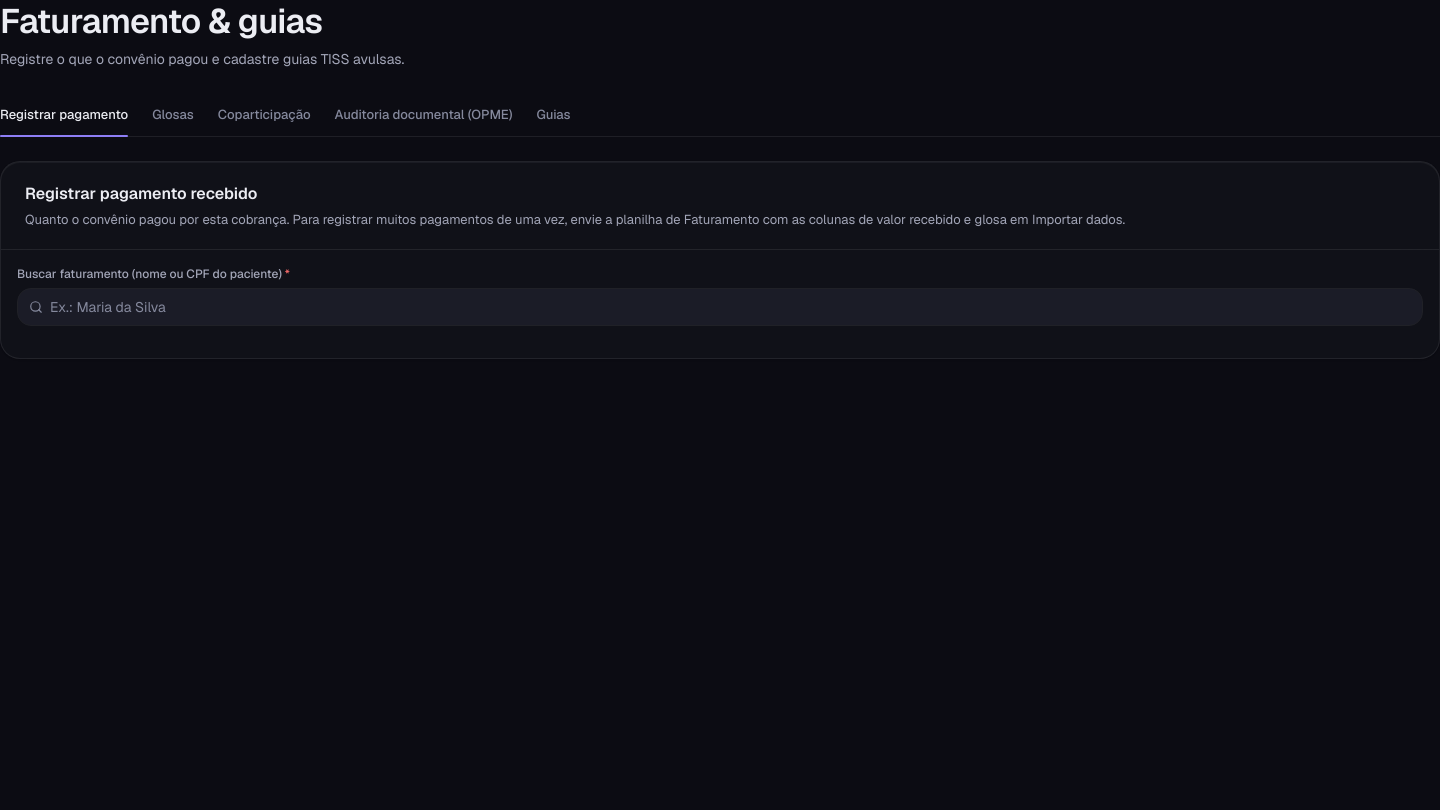
Test: BillingOperationsPage — aba Registrar pagamento › cancelar o ConfirmDialog não registra nada
Type "Maria da Silva" into the field labelled "Buscar faturamento (nome ou CPF do paciente) *" at (720, 307), box [17, 288, 1423, 326]
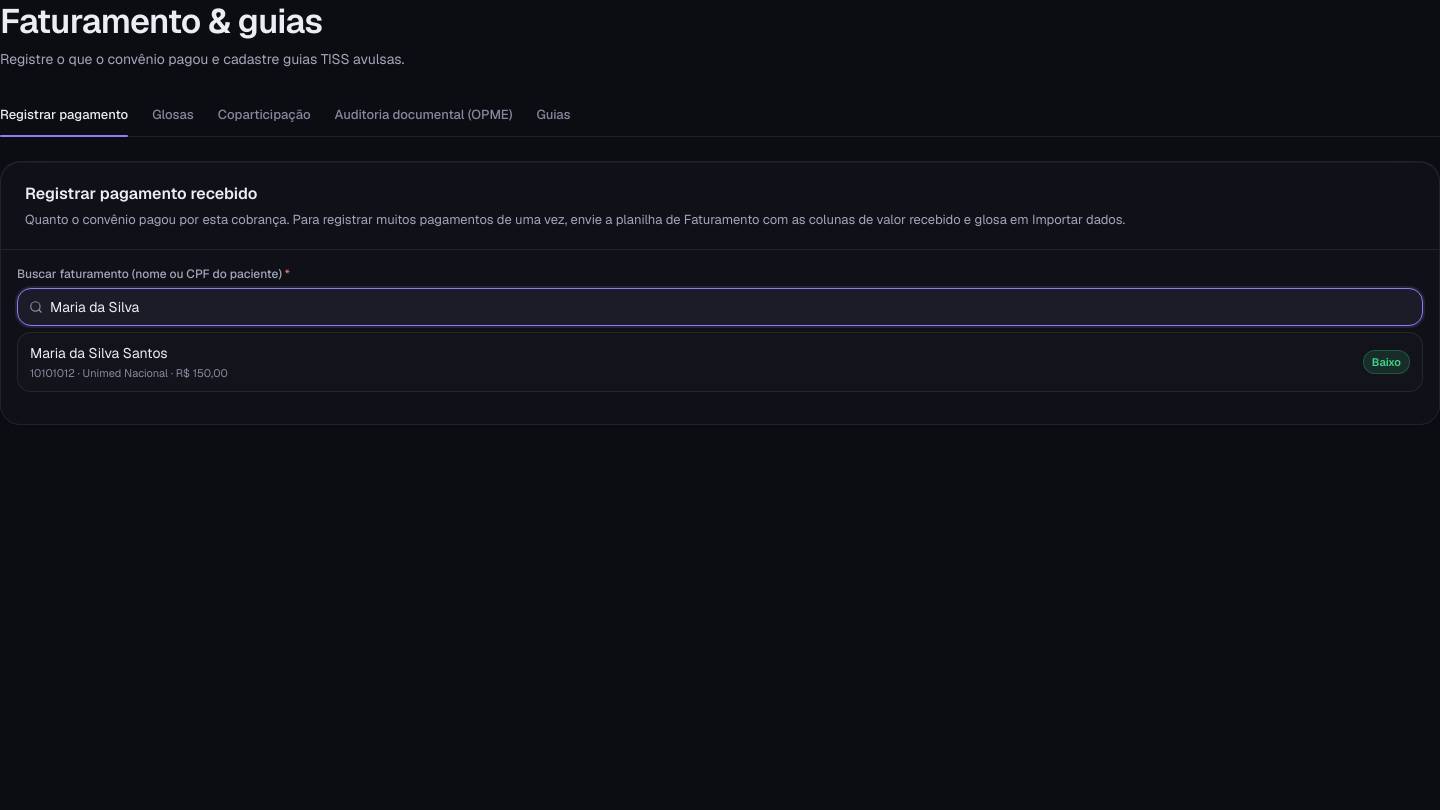
Check: the text "Maria da Silva Santos" is shown
Click the text "Maria da Silva Santos" at (99, 353), box [30, 344, 168, 362]
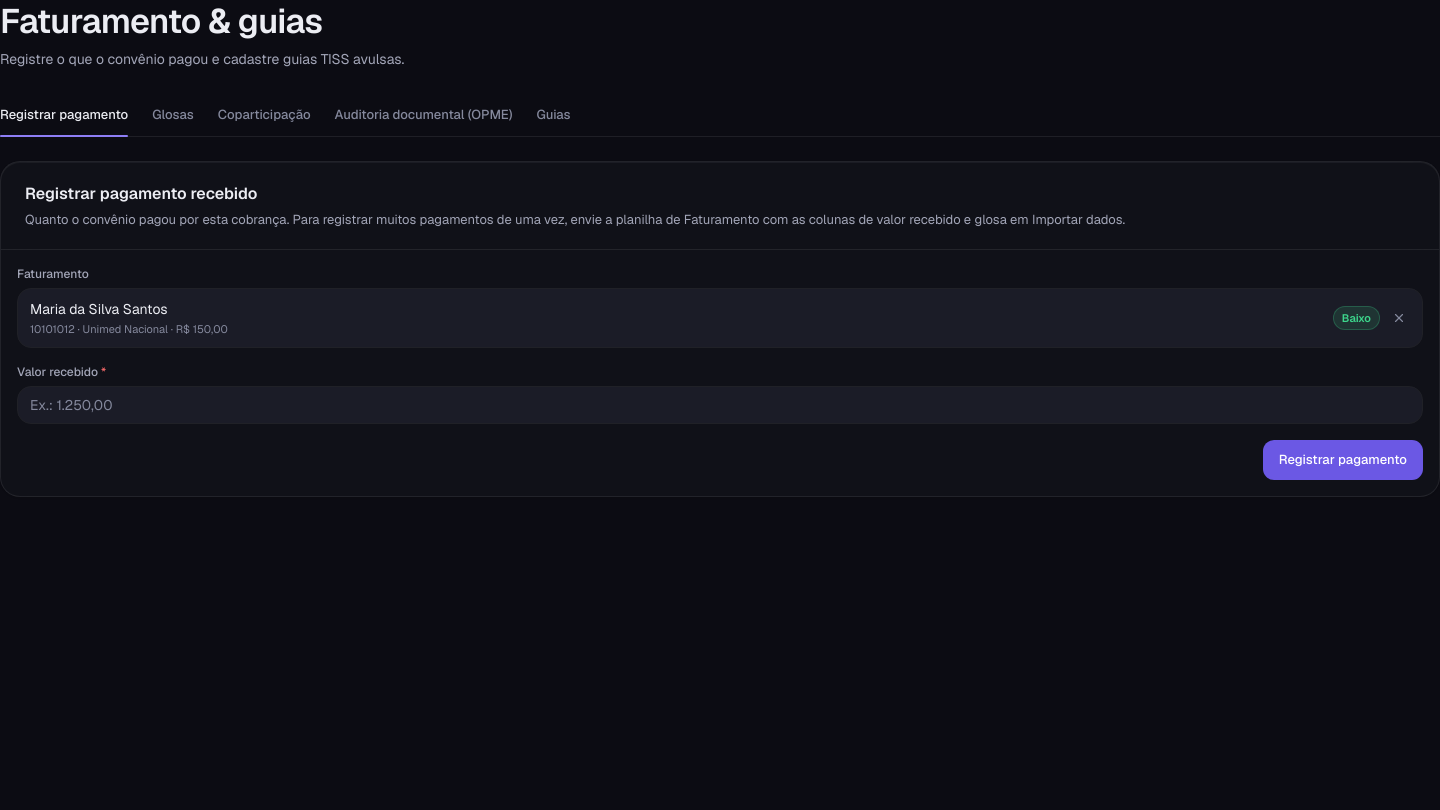
Type "150" into the field labelled "Valor recebido *" at (720, 405), box [17, 386, 1423, 424]
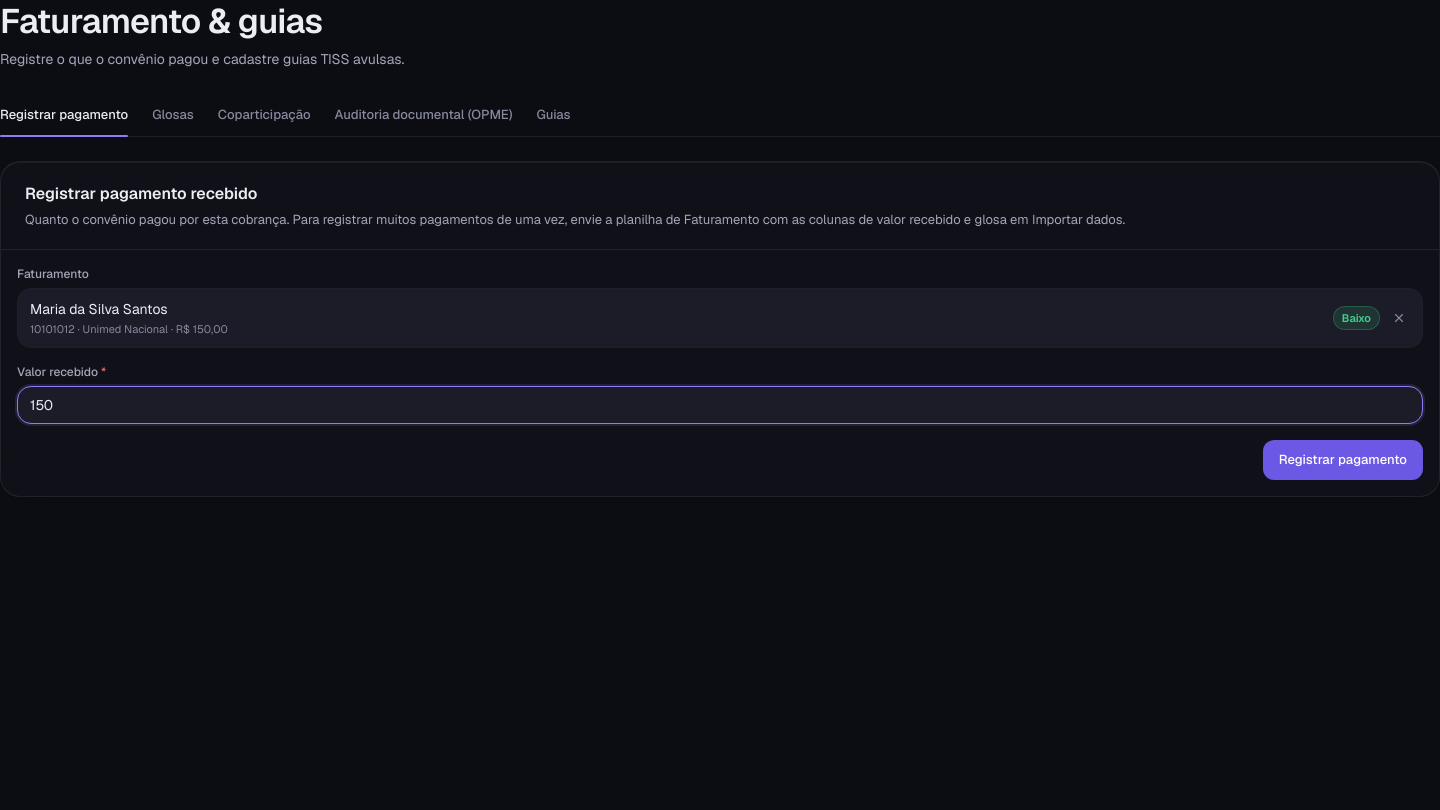
Click the button "Registrar pagamento" at (1343, 460), box [1263, 440, 1423, 480]
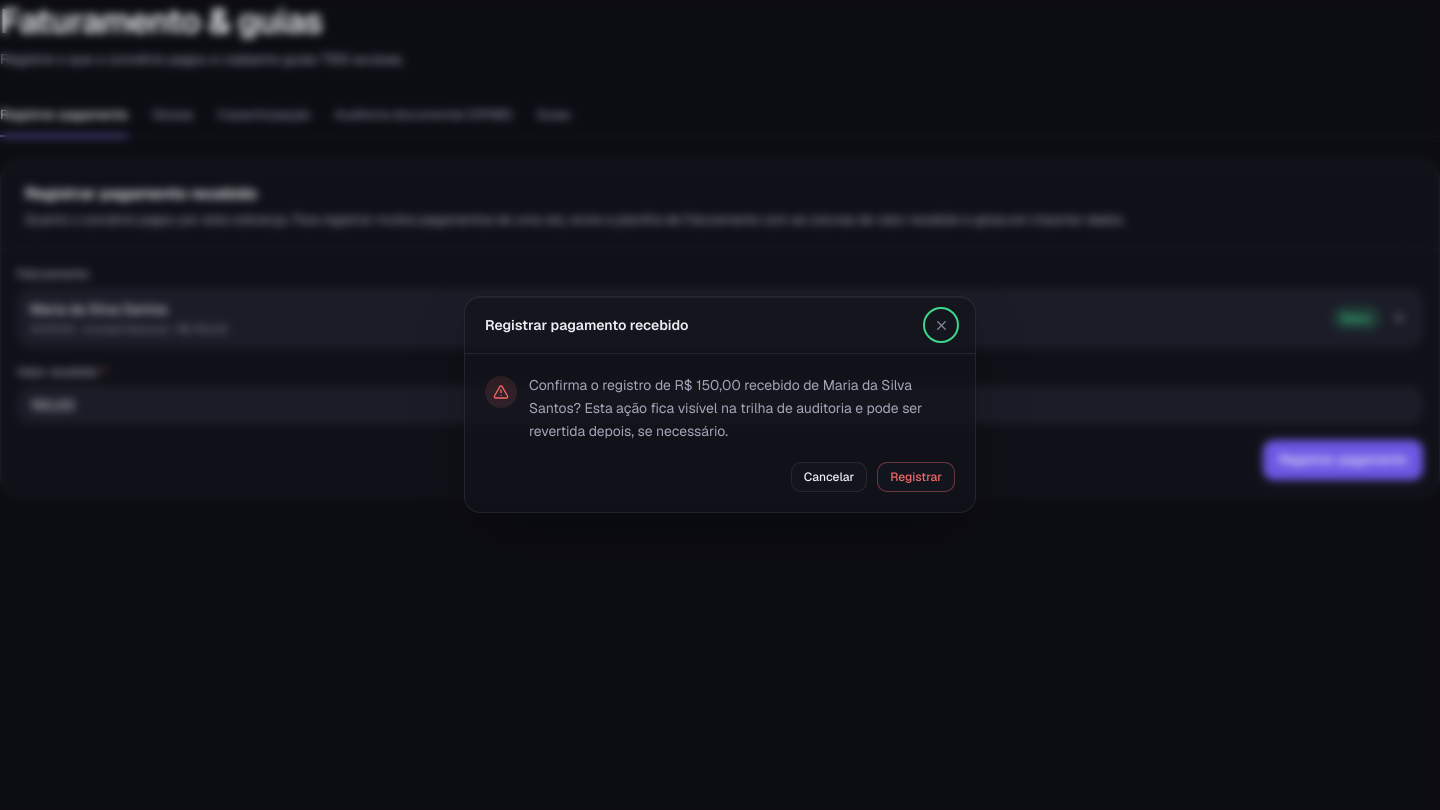
Click the button "Cancelar" at (829, 478), box [791, 463, 867, 493]
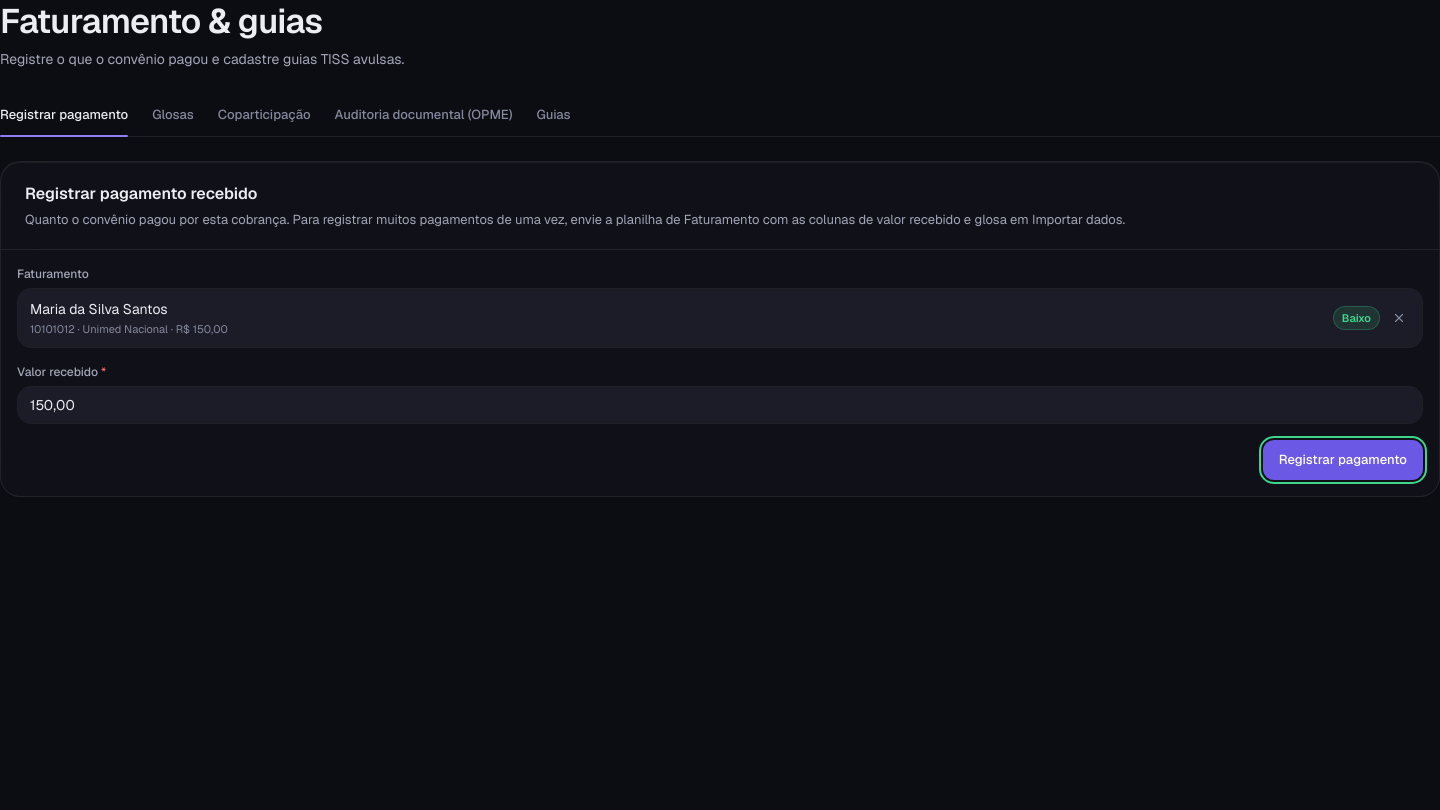
Check: the text "Confirma o registro de" is gone
